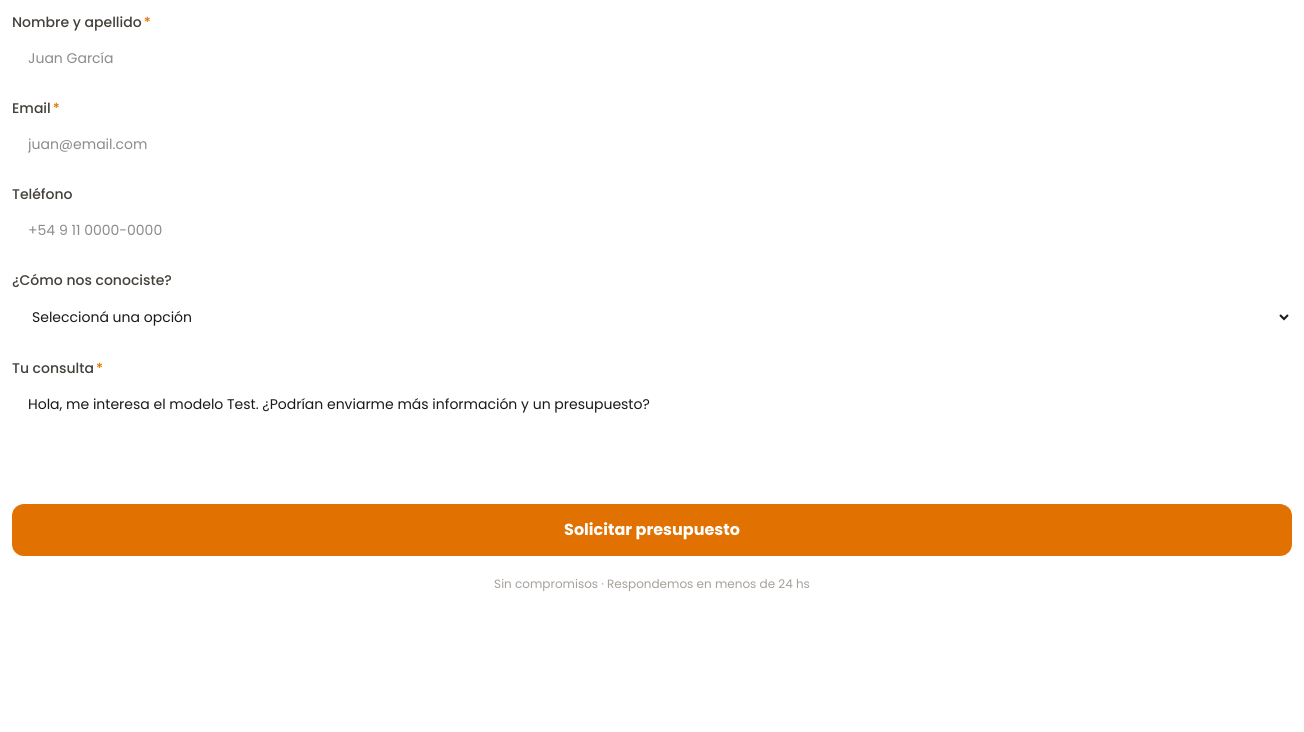
Scenario: ContactForm › muestra error si la consulta está vacía
The width and height of the screenshot is (1304, 732).
In the field with placeholder "Juan García": (652, 58) [12,38,1292,78], type "Test User"
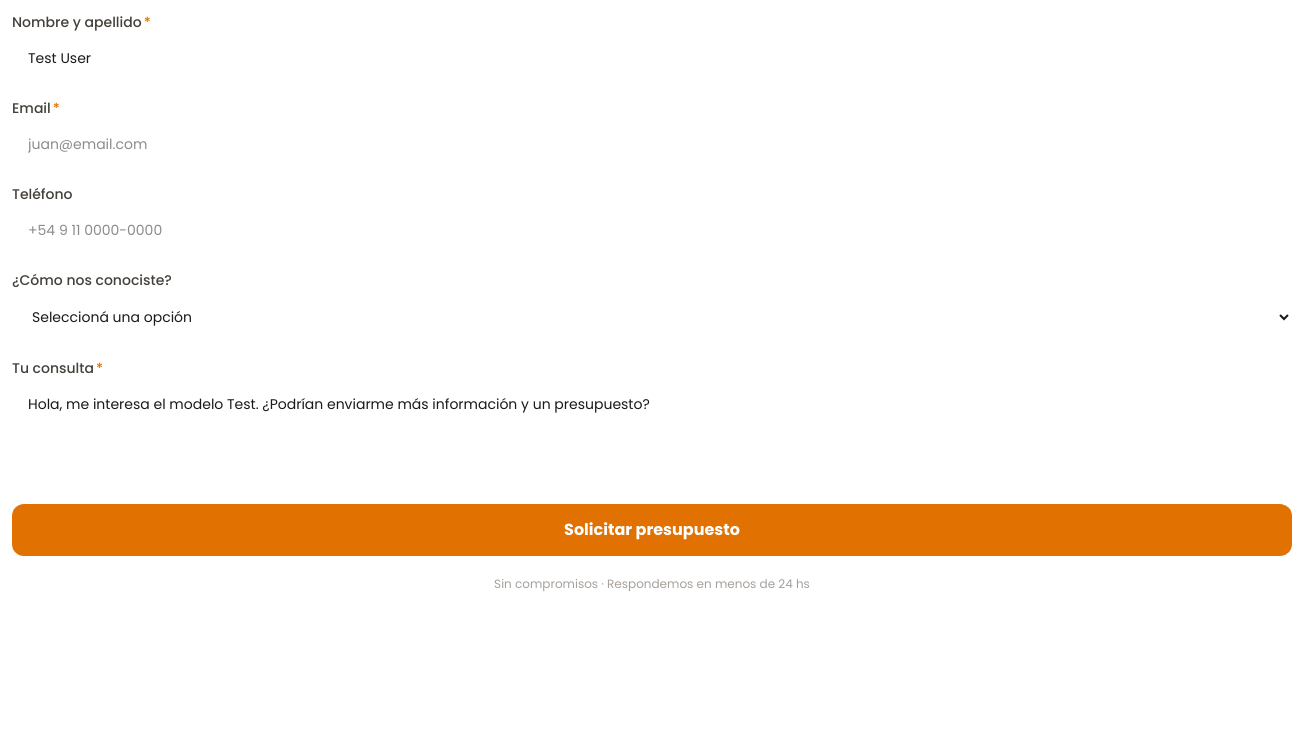
In the field with placeholder "juan@email.com": (652, 144) [12,124,1292,164], type "test@test.com"
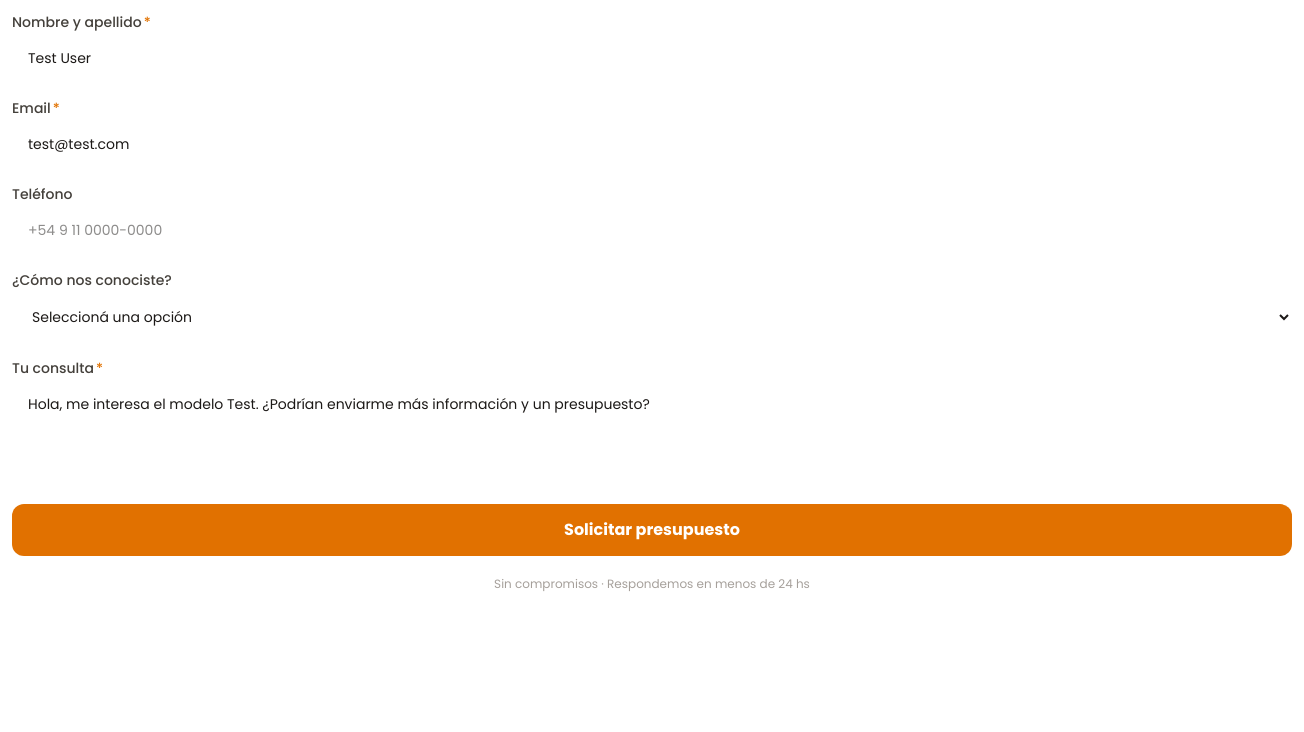
Clear the text box: (652, 434) [12,384,1292,484]
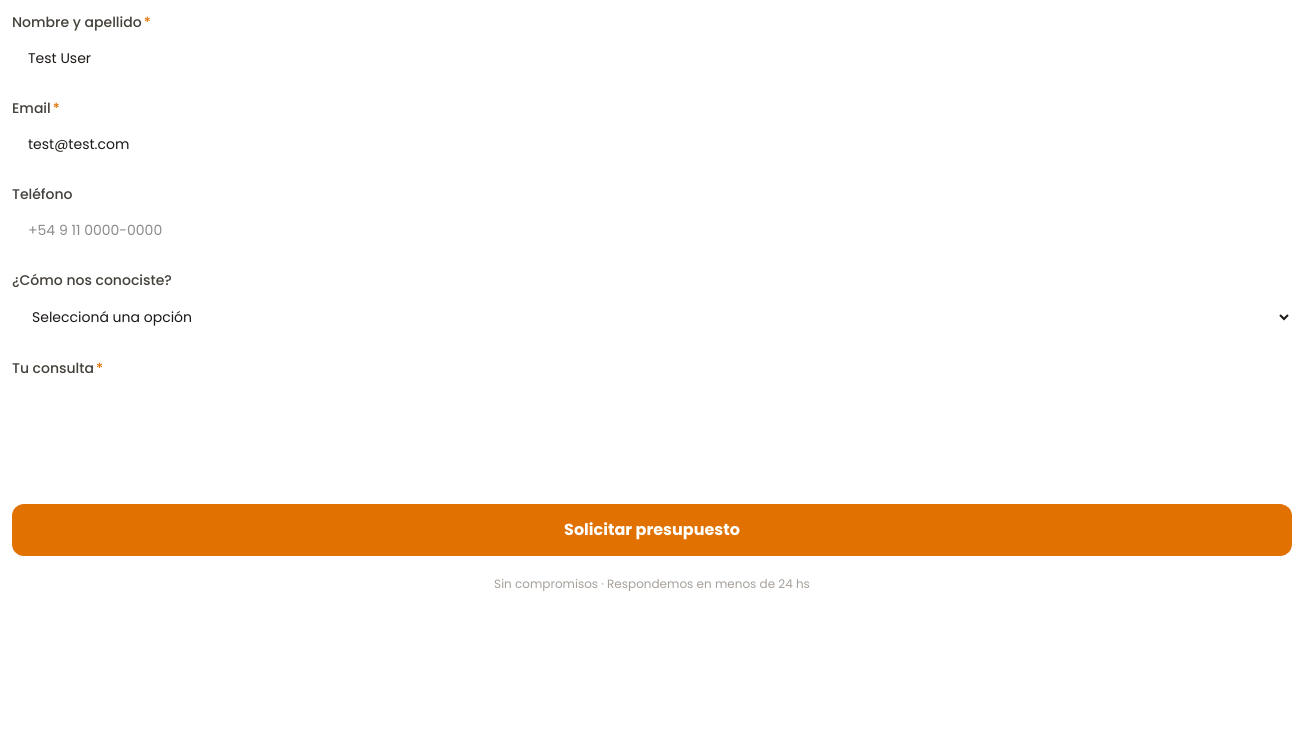
Click the button "Solicitar presupuesto": (652, 530) [12,504,1292,556]
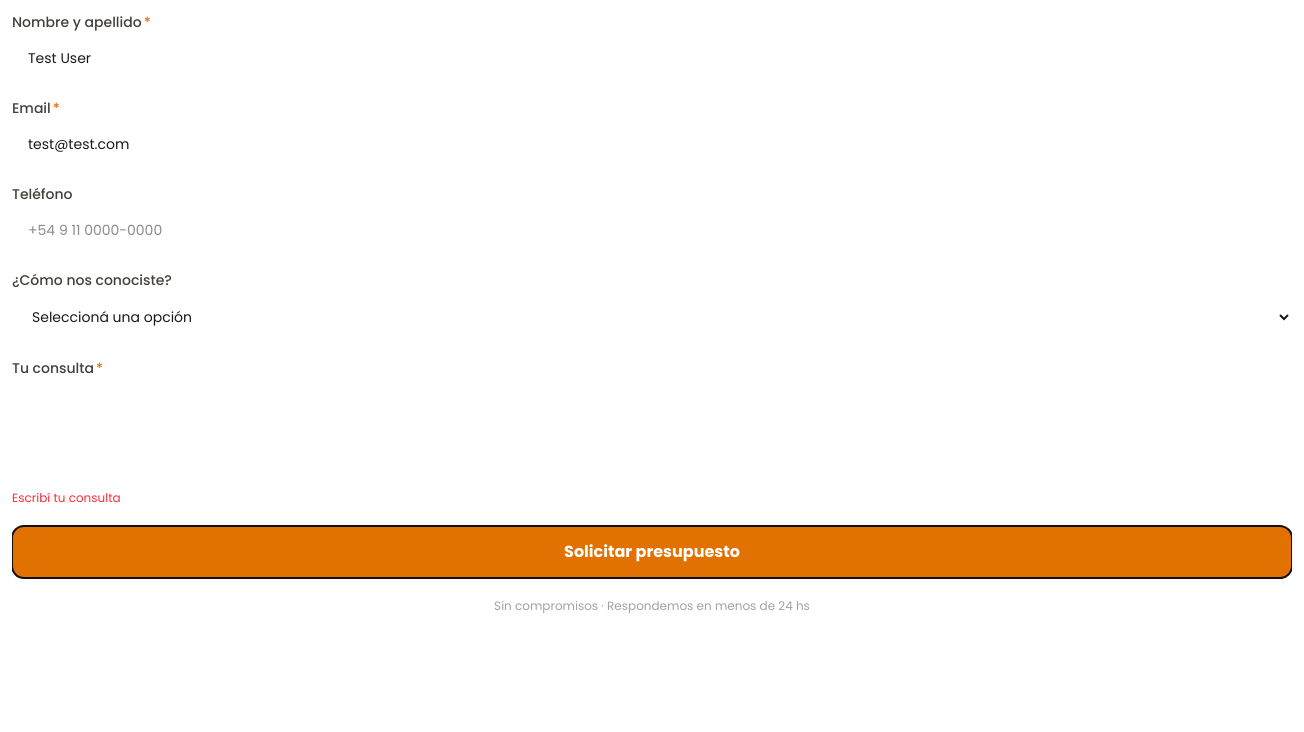
Result: the text "Escribí tu consulta" is shown at [12,489,121,506]
